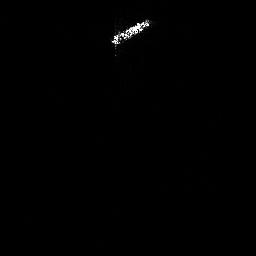ship: (107, 15, 153, 50)
